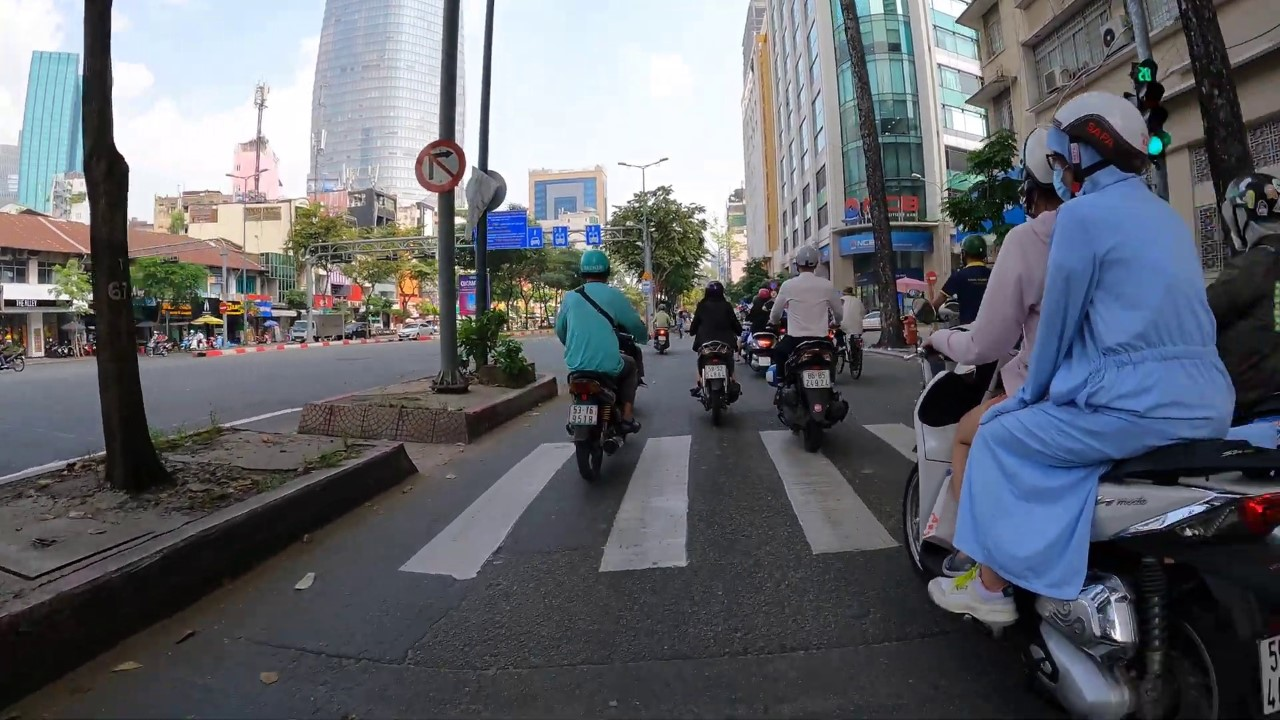cam_re_phai: (413, 138, 467, 194)
